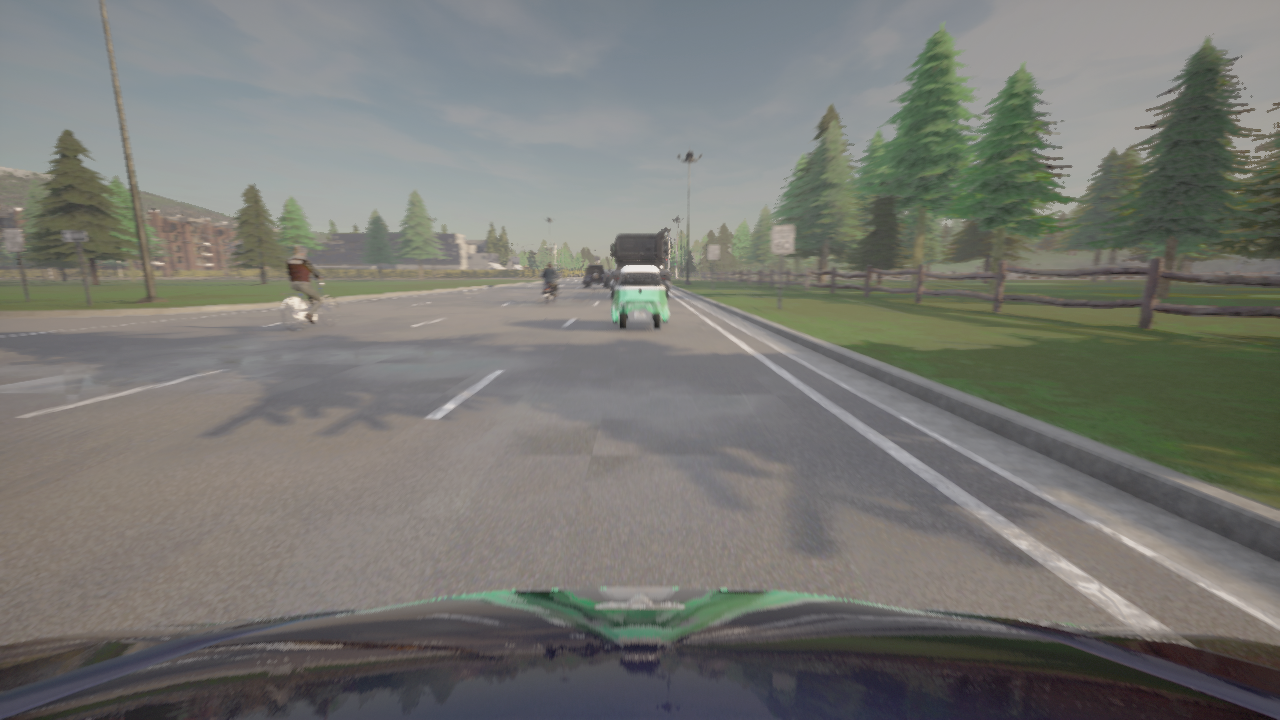cyclist: (0, 588, 1279, 719), (609, 266, 670, 330), (611, 232, 669, 298), (281, 277, 338, 332), (584, 265, 609, 288), (543, 273, 561, 304), (597, 270, 611, 284)
